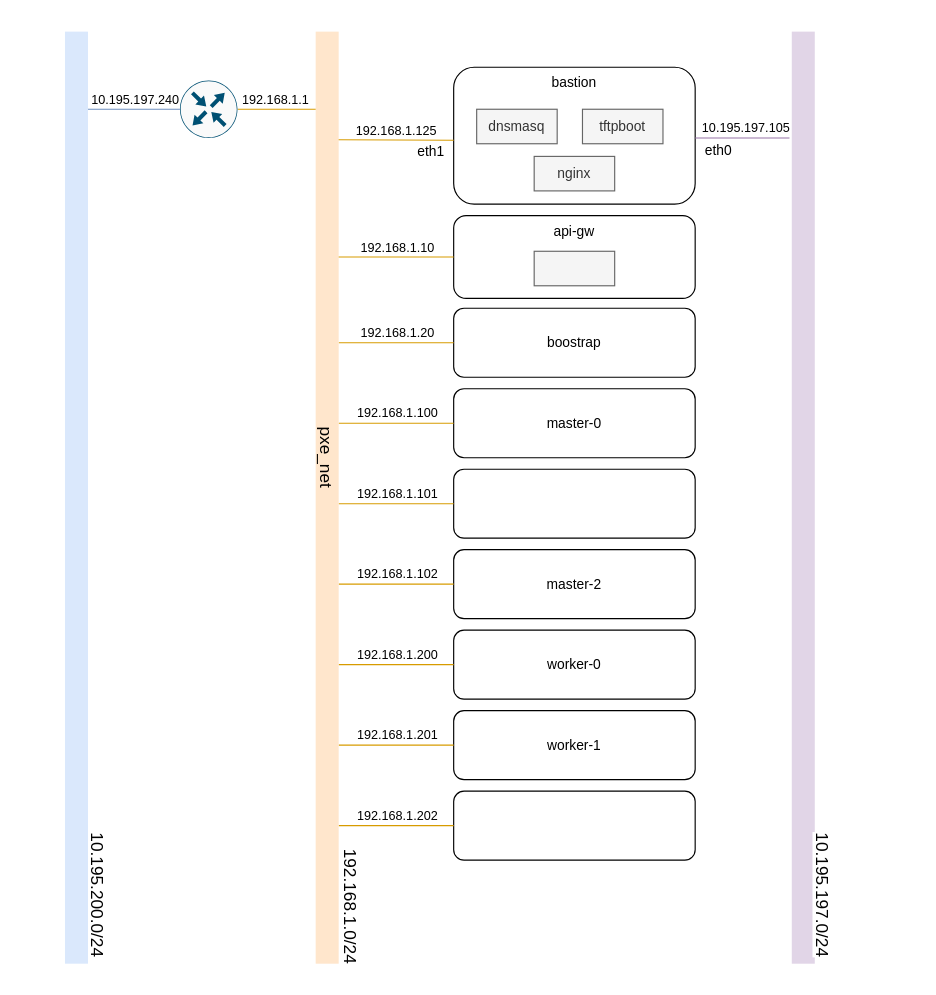
The diagram is 936 pixels wide and 995 high, and some of its shapes have lost their labels. Here are the shapes that lost their labels. From the top down, the centre of each, then its label:
the point at 574,268: haproxy
the point at 75,497: external_net
the point at 574,503: master -1
the point at 802,497: management_net
the point at 574,825: worker-2
